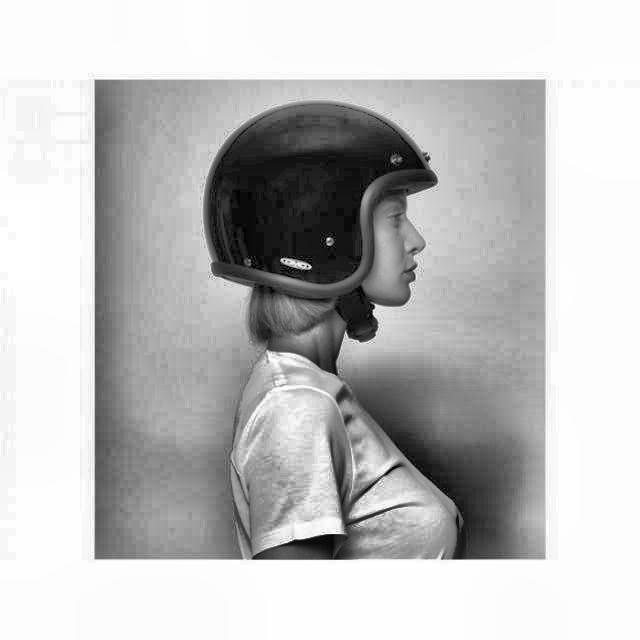Helmet: (188, 89, 450, 349)
